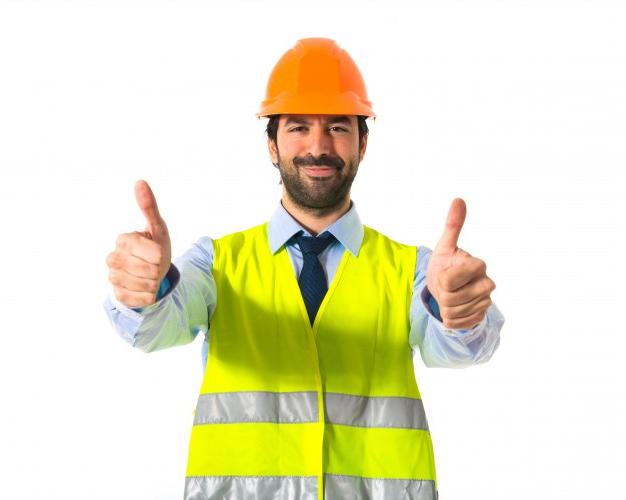thumbsup: (105, 179, 166, 306), (441, 198, 496, 329)
